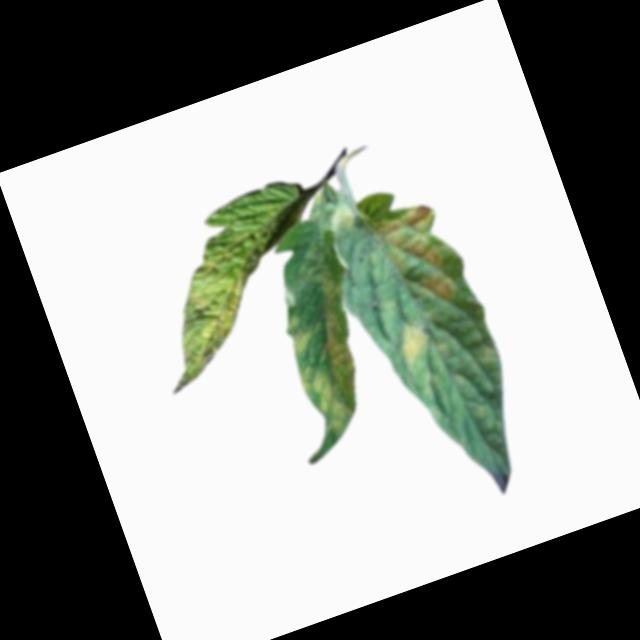Leaf_Mold: (130, 237, 284, 394), (271, 274, 387, 446), (370, 199, 472, 321), (390, 317, 438, 371)
